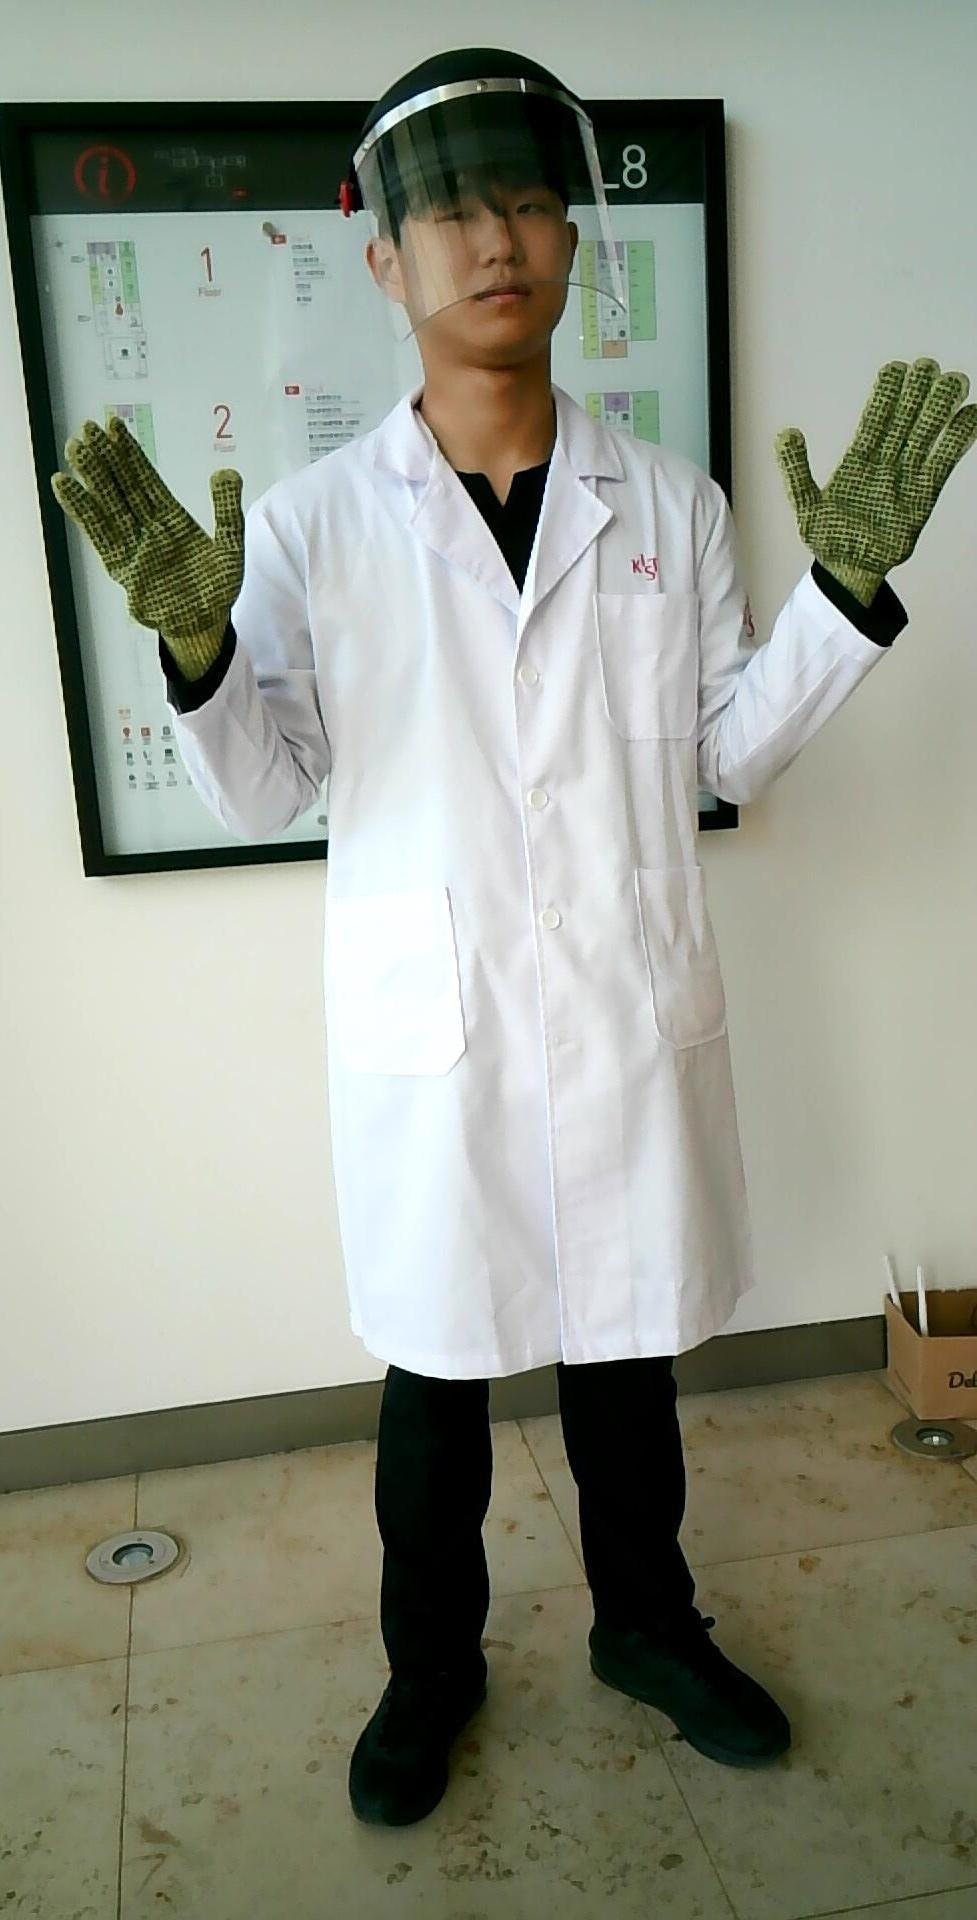lab_coat: (285, 471, 730, 1354)
